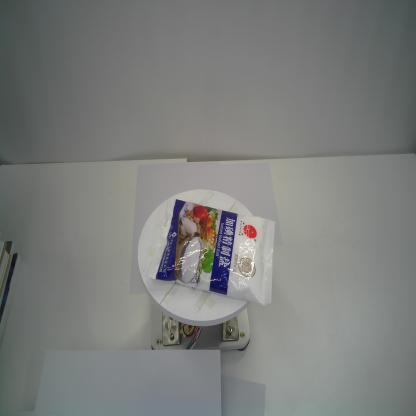Seasoner: (146, 196, 275, 306)
